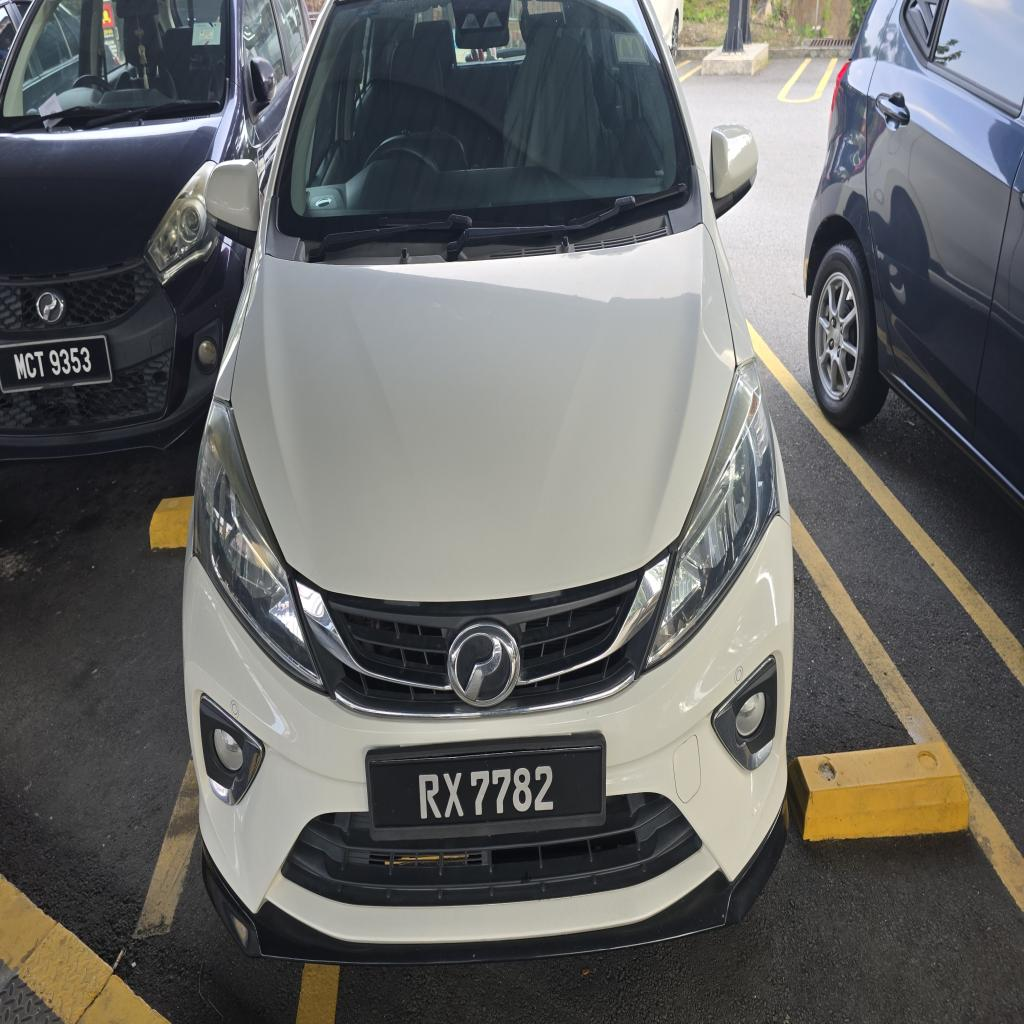car: (184, 0, 793, 962), (0, 0, 307, 472)
car plate: (366, 734, 605, 839), (0, 336, 111, 393)
